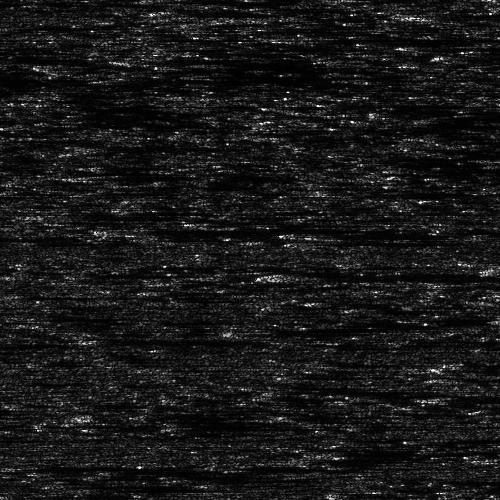object: (107, 223, 160, 236), (390, 10, 473, 17), (248, 270, 311, 279), (178, 496, 283, 500), (90, 334, 121, 347), (63, 142, 116, 149), (280, 230, 333, 235), (270, 240, 311, 245), (145, 9, 186, 12), (69, 174, 110, 177)
shadow: (133, 223, 407, 236), (106, 334, 268, 347), (0, 75, 284, 82), (280, 270, 500, 279), (231, 496, 482, 500), (90, 142, 212, 149), (307, 230, 473, 235), (432, 10, 500, 17), (291, 240, 374, 245), (166, 9, 247, 12), (90, 174, 169, 177), (432, 396, 500, 399), (0, 113, 15, 124)
